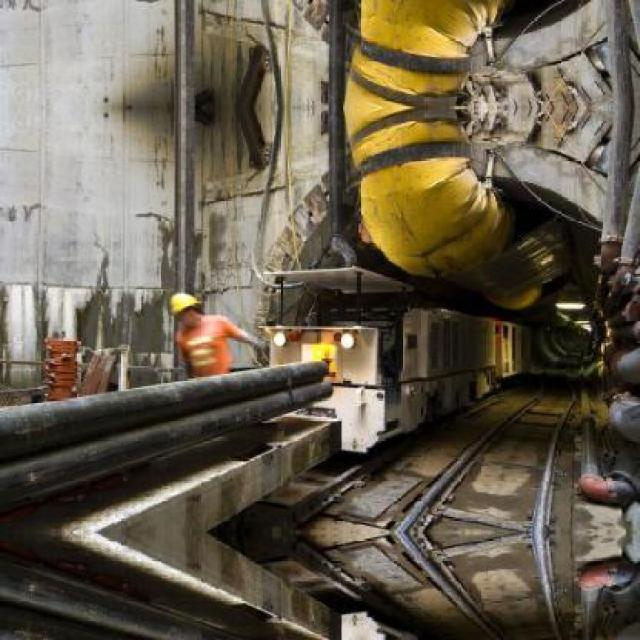hard-hat: (169, 292, 202, 316)
person: (167, 292, 267, 380)
